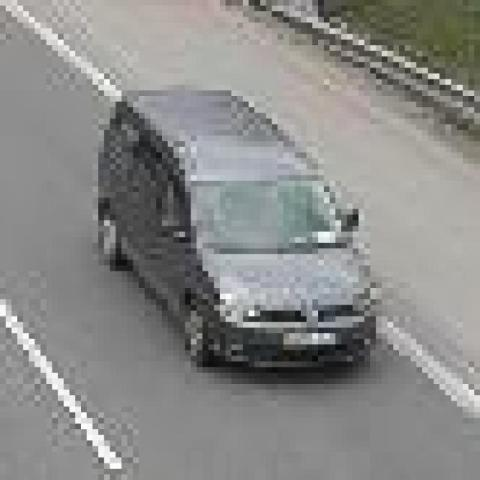van: (98, 91, 364, 368)
